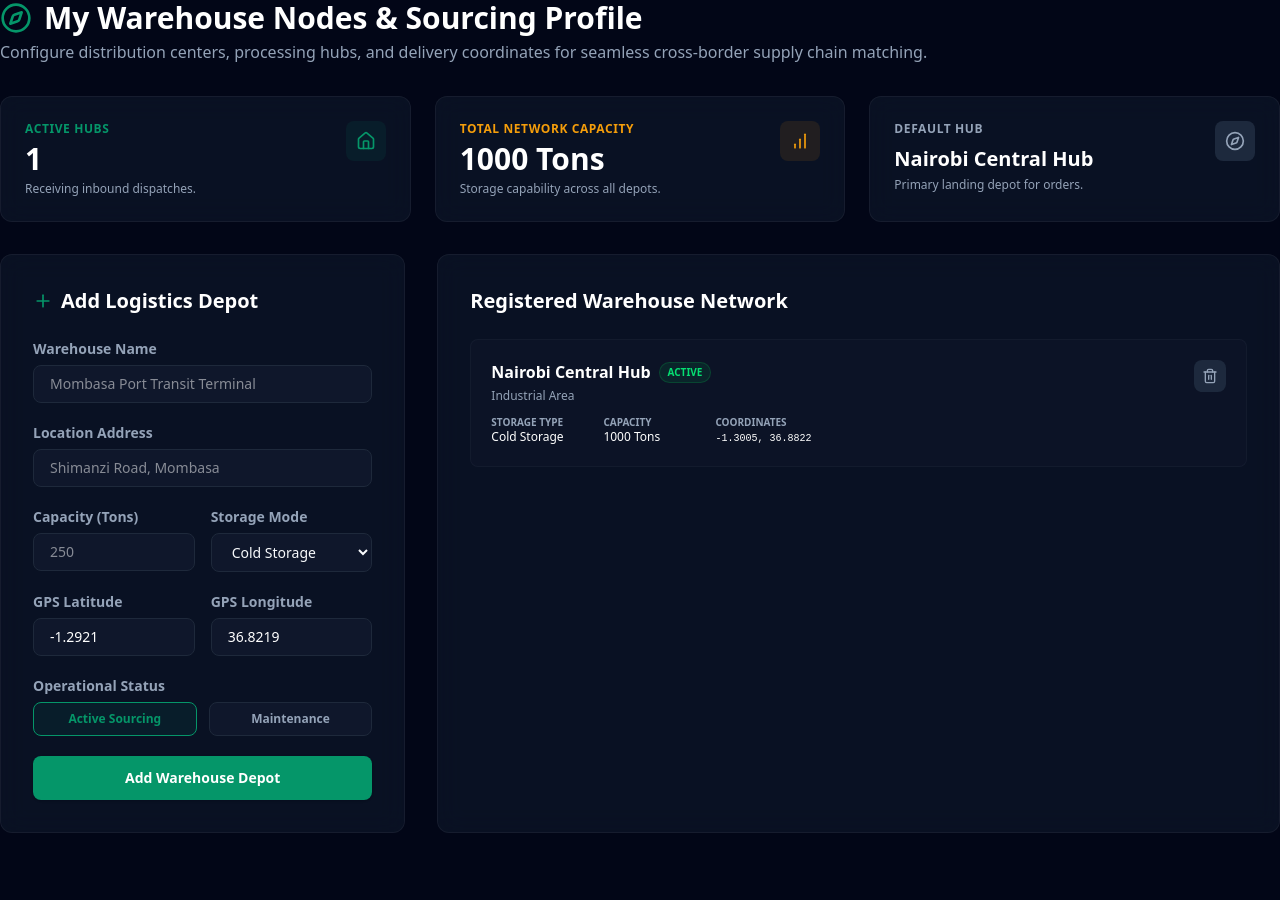
it: Buyer MyWarehouses Component › renders warehouse list and submits new warehouse form
Expected: the heading "Nairobi Central Hub" is shown, [894,145,1093,173]
In the field with placeholder "Mombasa Port Transit Terminal": (203, 384) [33,365,372,403], type "Mombasa Port Depot"
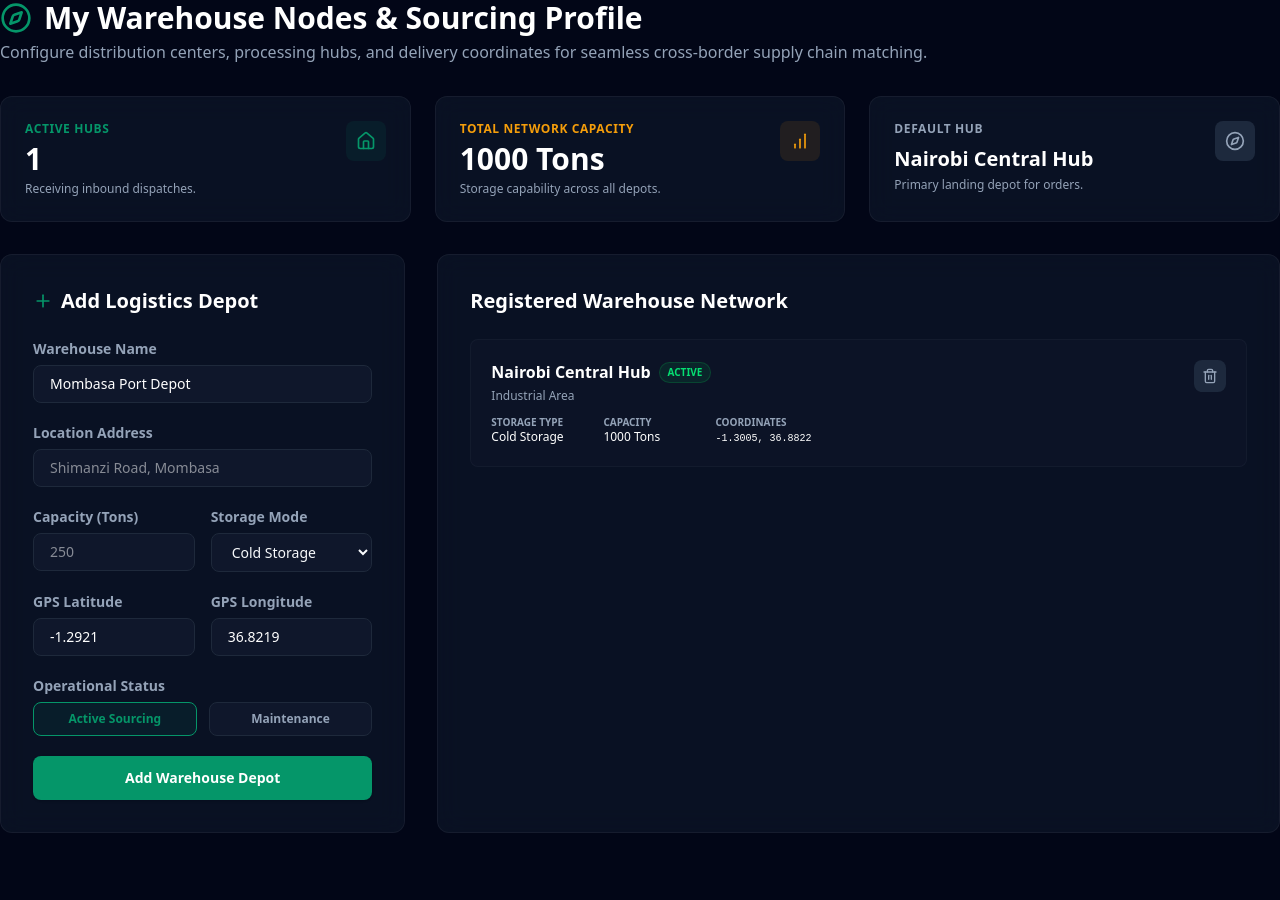
In the field with placeholder "Shimanzi Road, Mombasa": (203, 468) [33,449,372,487], type "Mombasa Port"
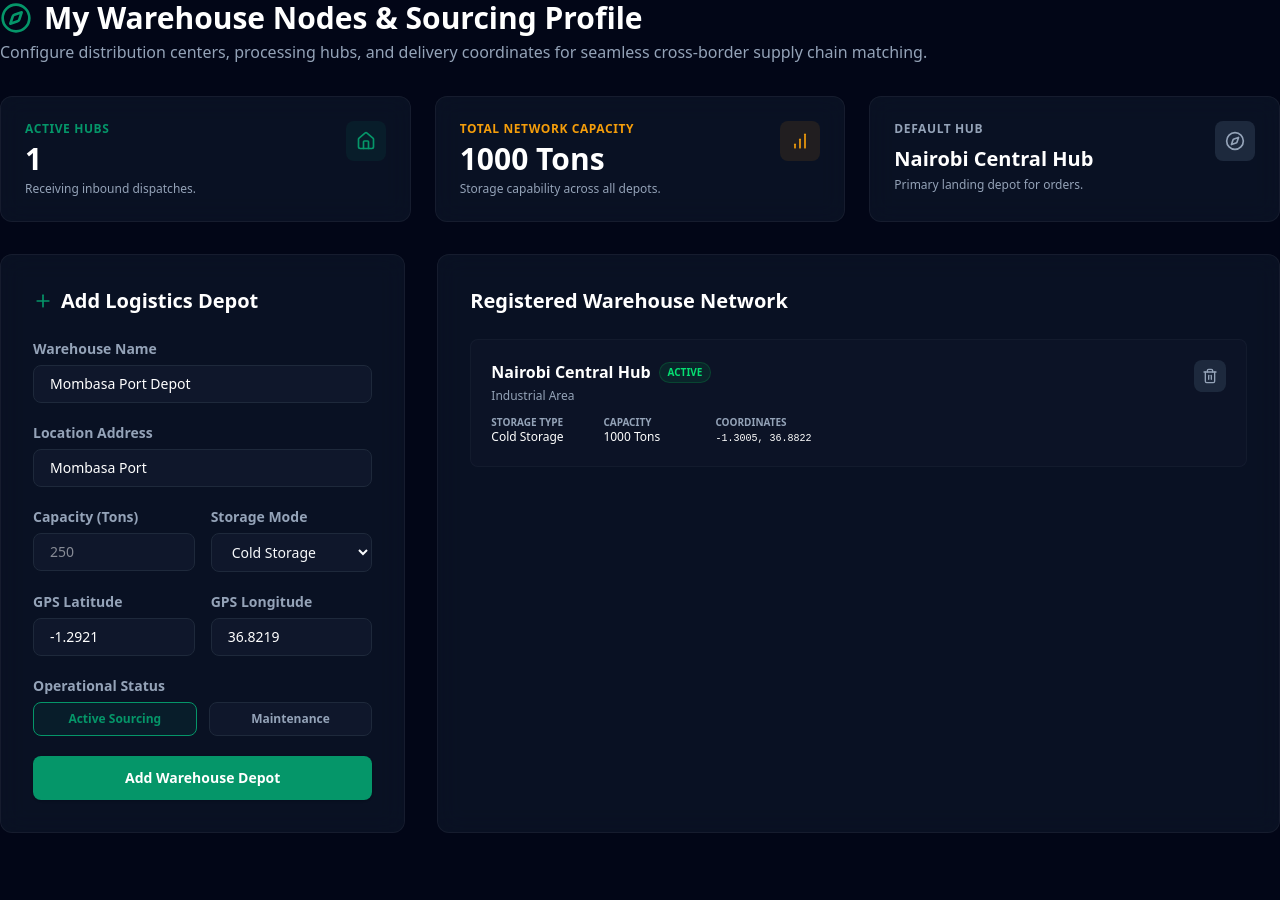
In the number field with placeholder "250": (114, 552) [33,533,195,571], type "2500"
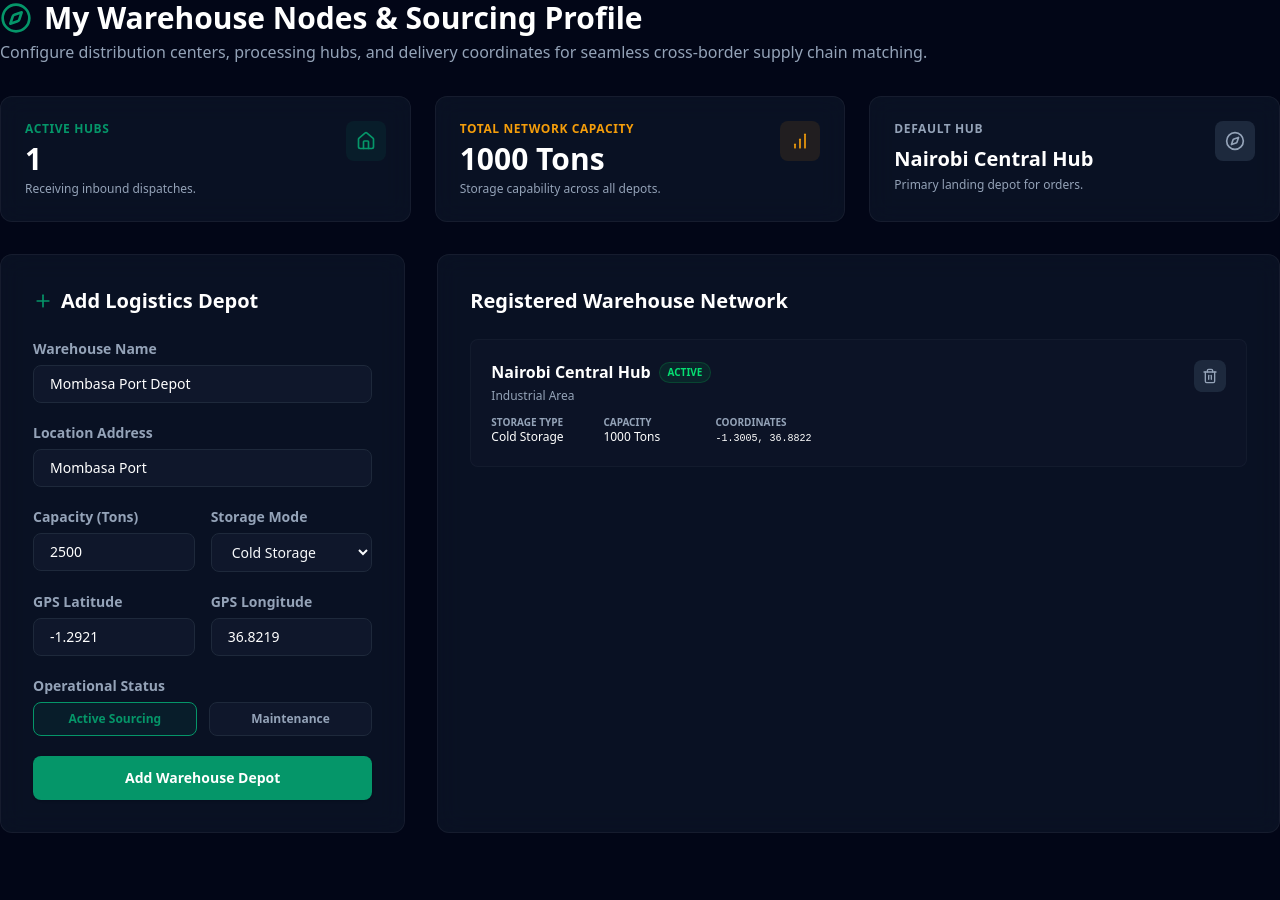
Click the button "Add Warehouse Depot": (203, 778) [33,756,372,800]
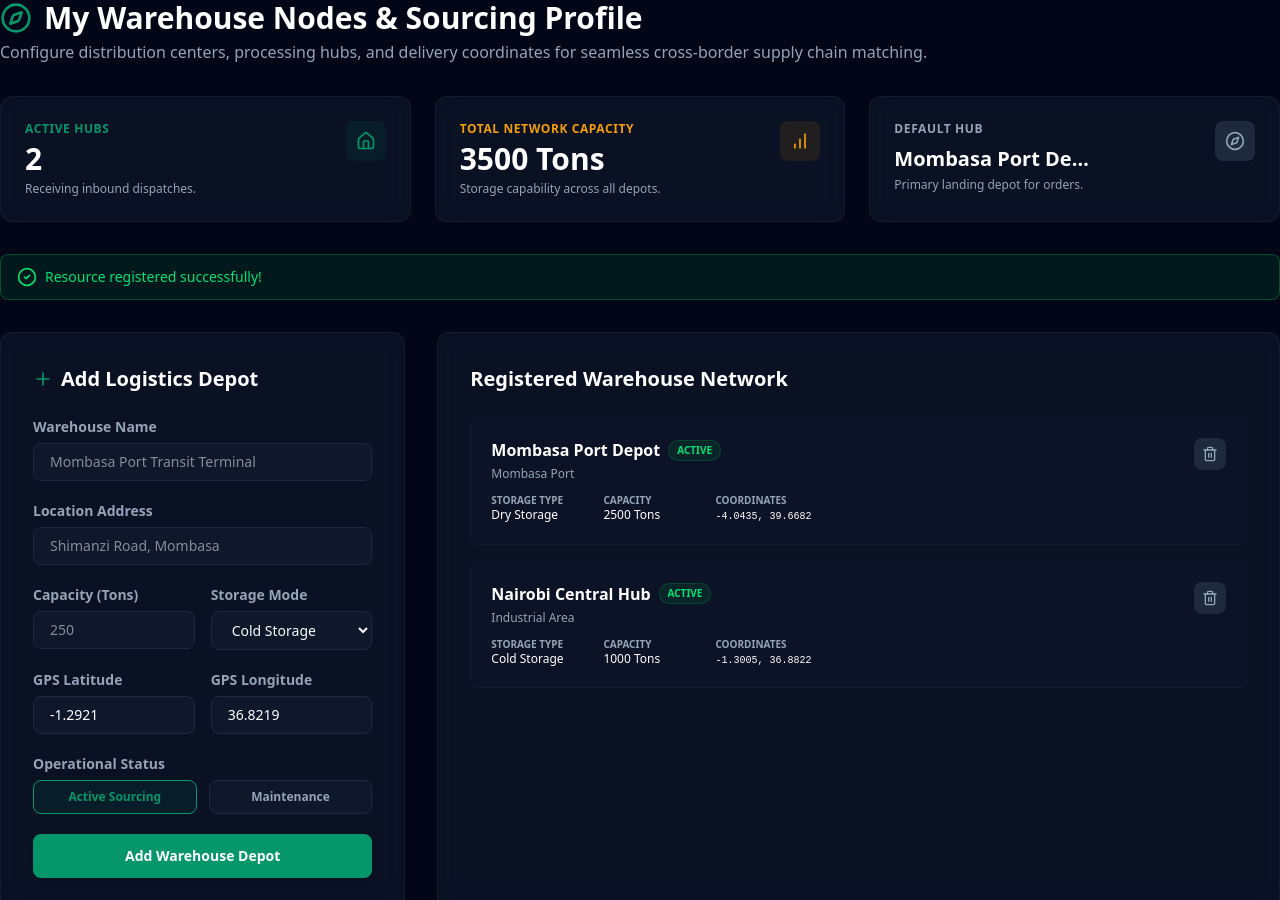
Result: the text "Resource registered successfully!" is shown at [45,267,262,287]
